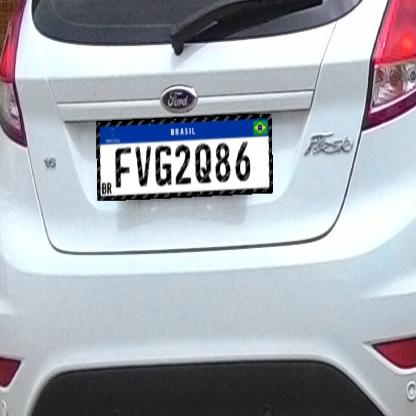PlacaM: (96, 114, 273, 201)
